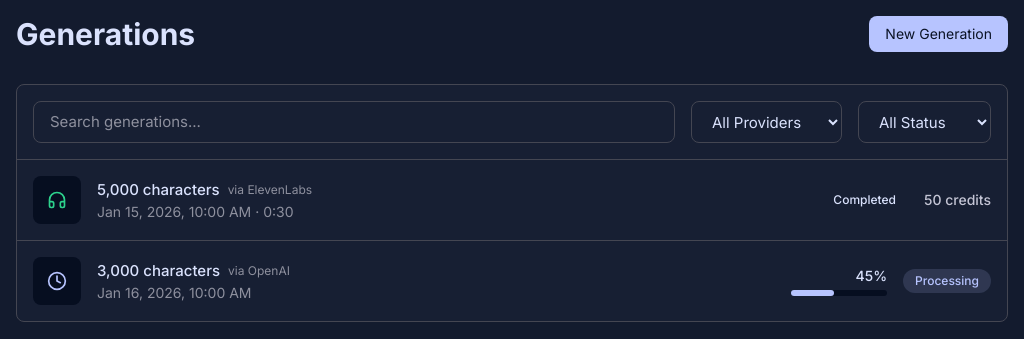
Generations Page - Search and Provider Filter › shows clear search button (X) when search has text
The image size is (1024, 339).
In the field with placeholder "Search generations...": coordinates (354, 122) left=33, top=101, right=675, bottom=143, type "test"
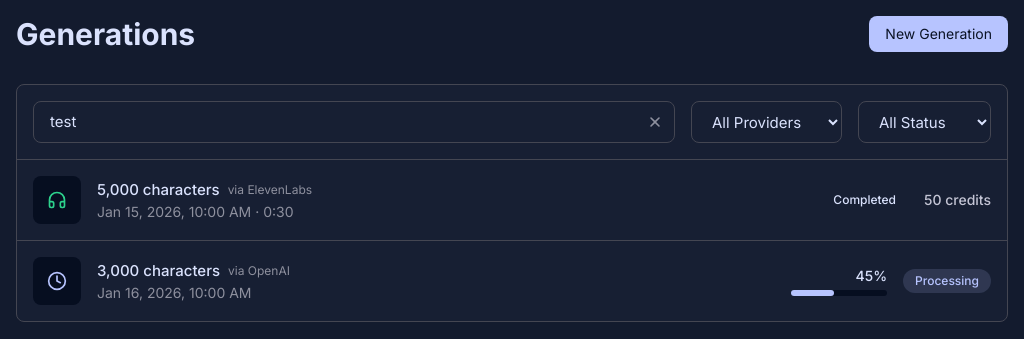
expect the button named "Clear search" is shown: met, box left=643, top=110, right=667, bottom=134
